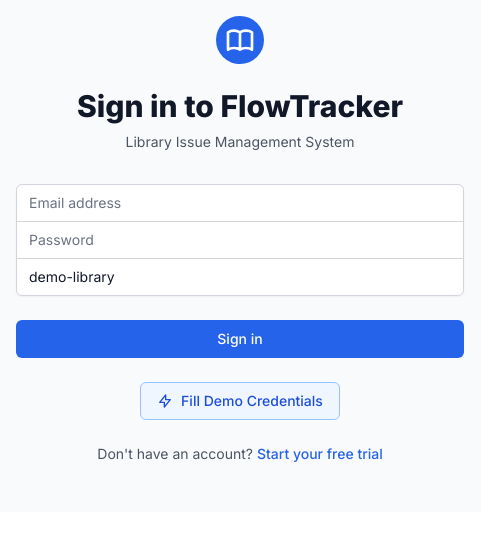
Test: LoginForm › shows error message on login failure
Clear the field named "Library Slug" at (240, 277), box [16, 258, 464, 296]
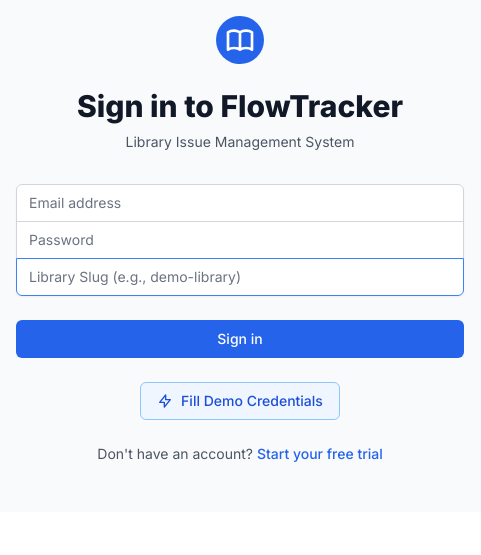
Type "test@example.com" into the field labelled "Email address" at (240, 203), box [16, 184, 464, 222]
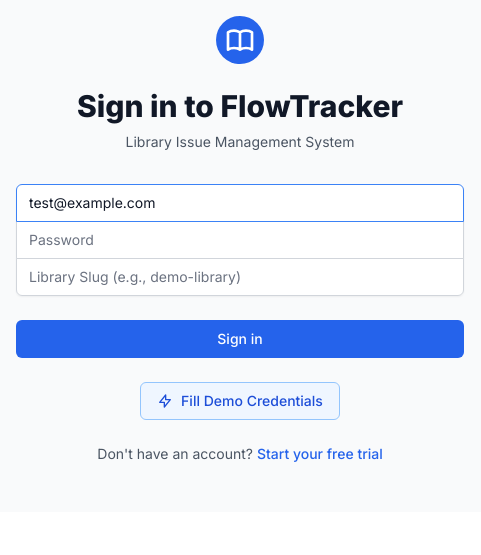
Type "wrongpassword" into the password field labelled "Password" at (240, 240), box [16, 221, 464, 259]
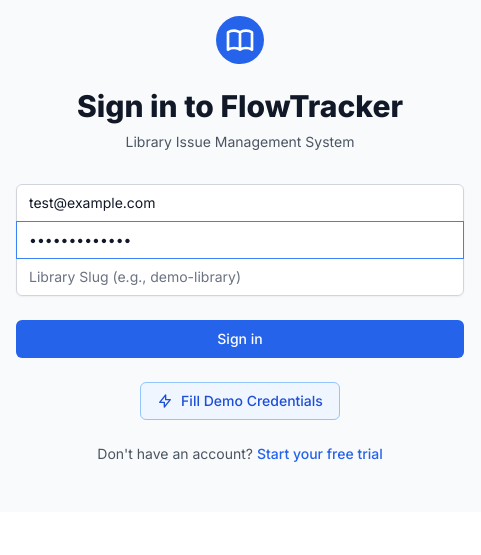
Type "test-library" into the field labelled "Library Slug (e.g., demo-library)" at (240, 277), box [16, 258, 464, 296]
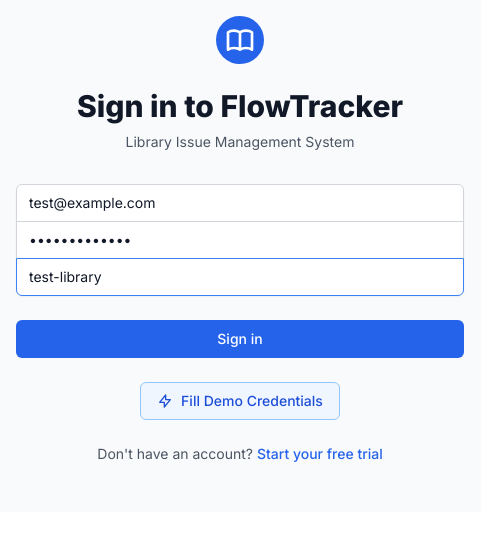
Click the button "Sign in" at (240, 339), box [16, 320, 464, 358]
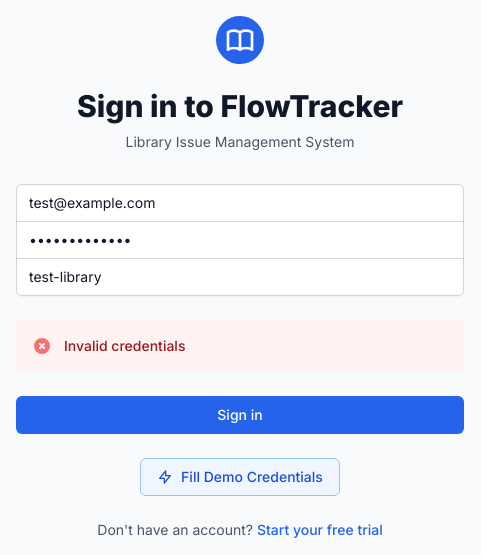
Result: the heading "Invalid credentials" is shown at [64, 336, 185, 356]
